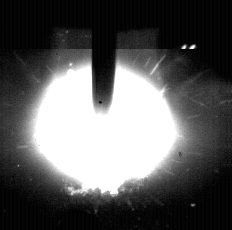arame: (93, 0, 116, 114)
poca: (32, 0, 179, 230)
